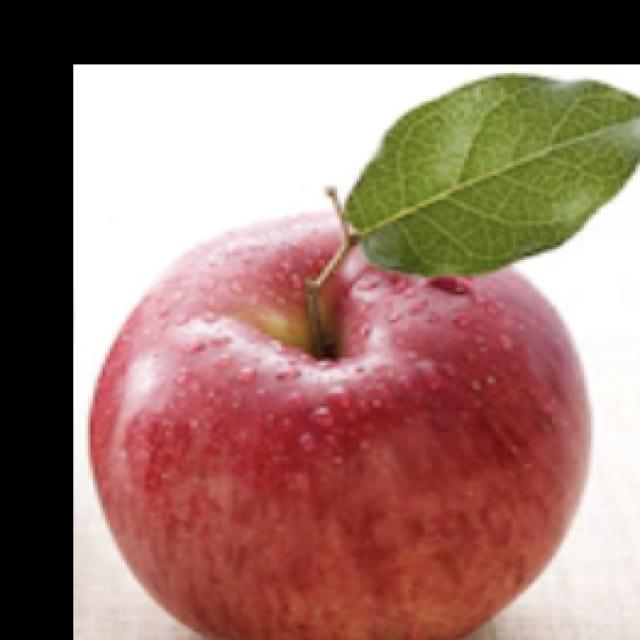Fresh Apple: (89, 70, 595, 640)
